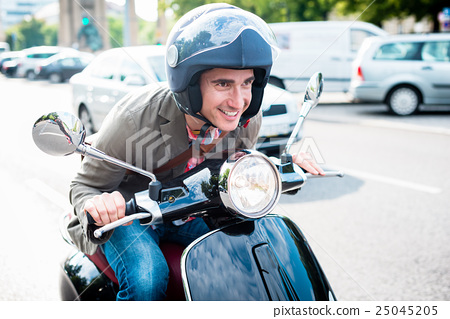helmet: (164, 11, 273, 108)
